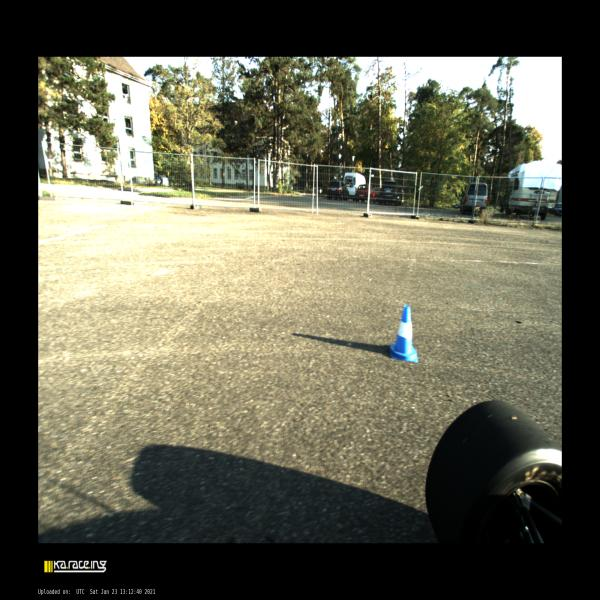blue_cone: (389, 305, 418, 363)
